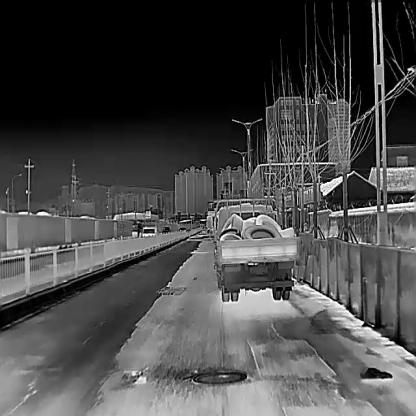car: (142, 226, 156, 239)
truck: (214, 202, 300, 301)
